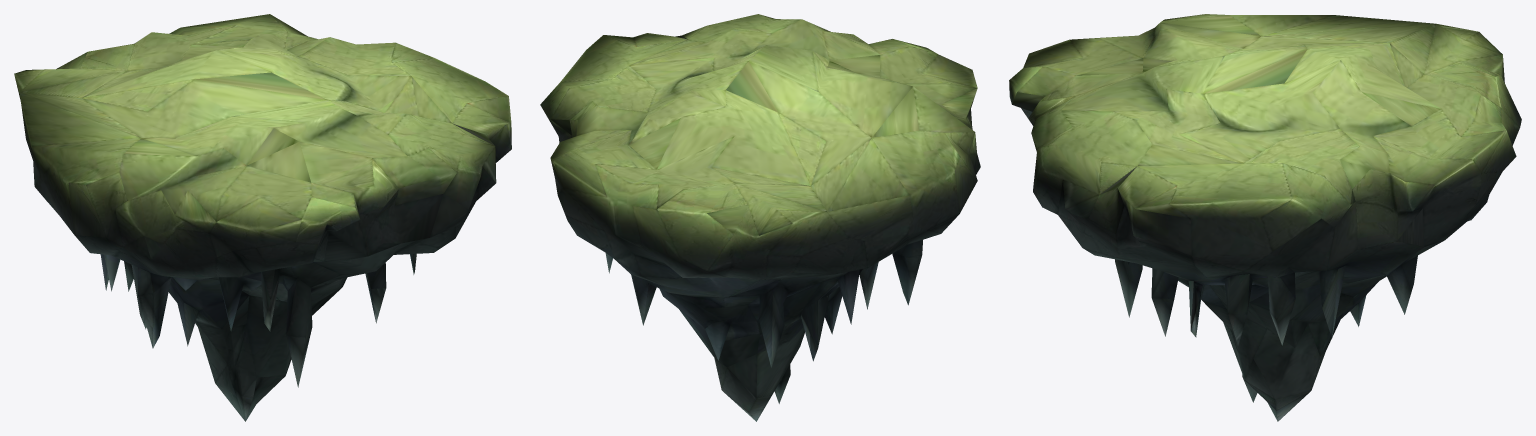
The model's file is lit.glb.
3 views of the same model, side by side, from view 1: azimuth 30°, elevation 25°; view 2: azimuth 150°, elevation 25°; view 3: azimuth 270°, elevation 25° (orthographic). The views are drawn at different scales.
Visible parts, largest first — view 1: rock; view 2: rock; view 3: rock.
Boxes of the visible parts, x1,y1,x2,y2 form: rock: (14, 14, 511, 421); rock: (540, 14, 980, 421); rock: (1009, 14, 1521, 421).
Size of what is drawn, in the model's own units: 1.79 by 1.48 by 1.9.
1 material, 1 textured.
